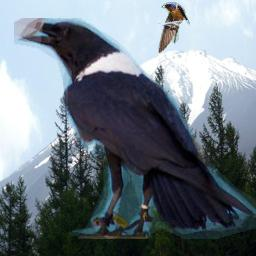Crow: (14, 18, 256, 239)
Swallow: (158, 2, 190, 53)
